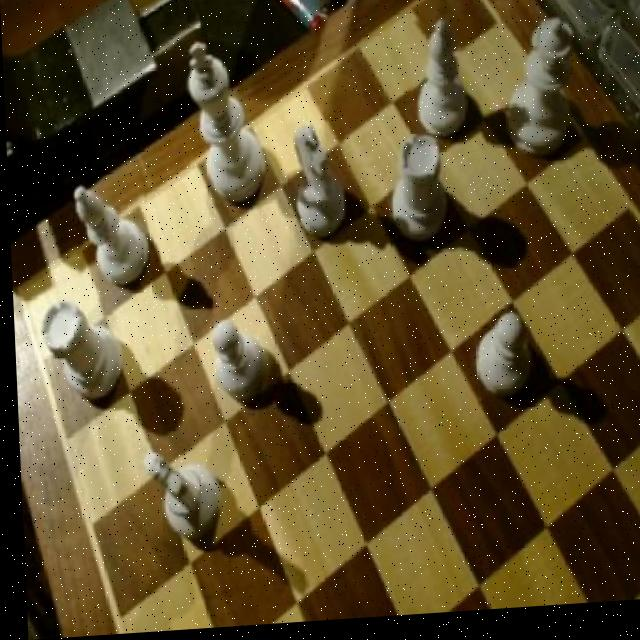black-rook: (70, 173, 149, 301), (405, 21, 468, 152)
white-bishop: (184, 42, 268, 214)
white-king: (135, 442, 223, 554), (283, 124, 344, 250)
white-knight: (468, 310, 531, 408), (205, 322, 265, 406)
white-pawn: (497, 17, 580, 165)
white-queen: (34, 292, 119, 417), (378, 139, 445, 257)
